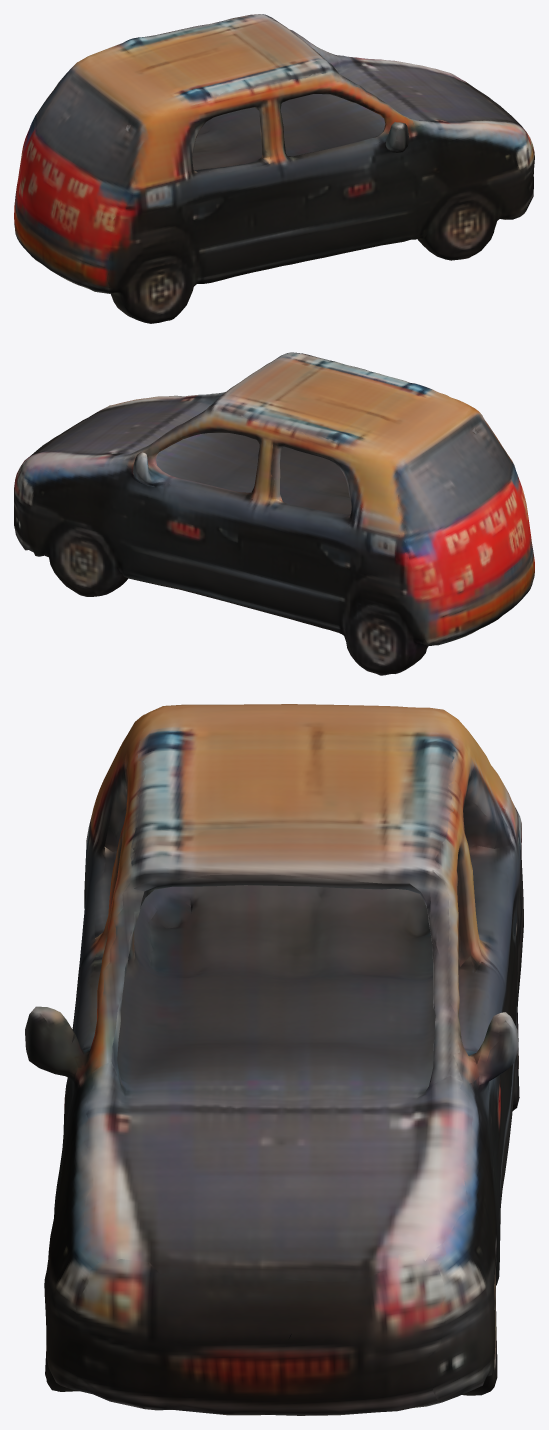
The model's file is mum_taxi.glb.
3 renders of one model, top to bottom at view 1: azimuth 30°, elevation 25°; view 2: azimuth 150°, elevation 25°; view 3: azimuth 270°, elevation 25°, orthographic. The views are drawn at different scales.
Parts seen in each view (by area): view 1: Object_2; view 2: Object_2; view 3: Object_2.
Part boxes in pixels (x1,y1,x2,y2): Object_2: (14,14,534,323); Object_2: (14,352,534,675); Object_2: (25,704,523,1415).
Bounding box in the file's own units: 1.74 × 0.7425 × 0.8054.
1 material, 1 textured.
